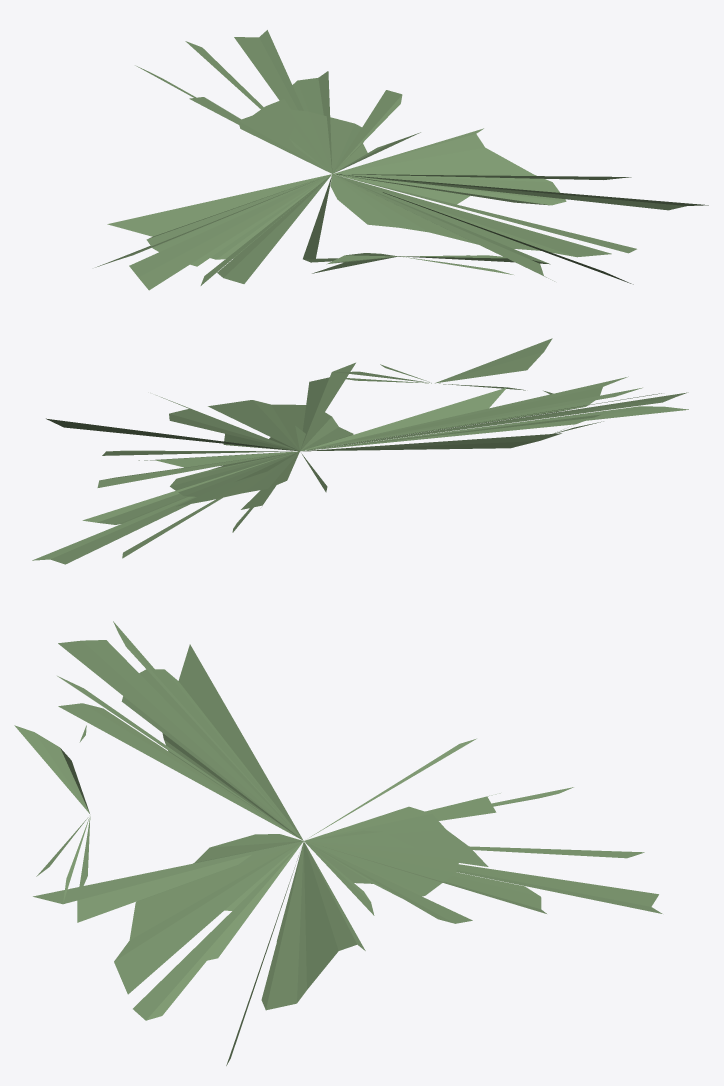
File: c_1668_17815_parks.glb
3 renders of one model, top to bottom at view 1: azimuth 30°, elevation 25°; view 2: azimuth 150°, elevation 25°; view 3: azimuth 270°, elevation 25°, orthographic. The views are drawn at different scales.
Visible parts, largest first — view 1: geometry_0; view 2: geometry_0; view 3: geometry_0.
Part boxes in pixels (box(x1,y1,x2,y2)): geometry_0: box(95, 30, 708, 290); geometry_0: box(32, 338, 688, 564); geometry_0: box(14, 621, 662, 1065).
Bounding box in the file's own units: 532 × 107 × 479.
